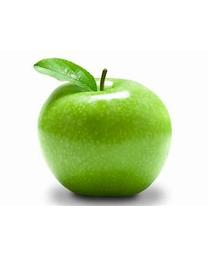apple: (33, 57, 172, 197)
